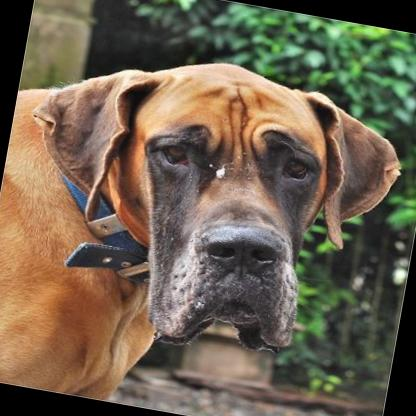Great_Dane: (0, 28, 412, 416)
